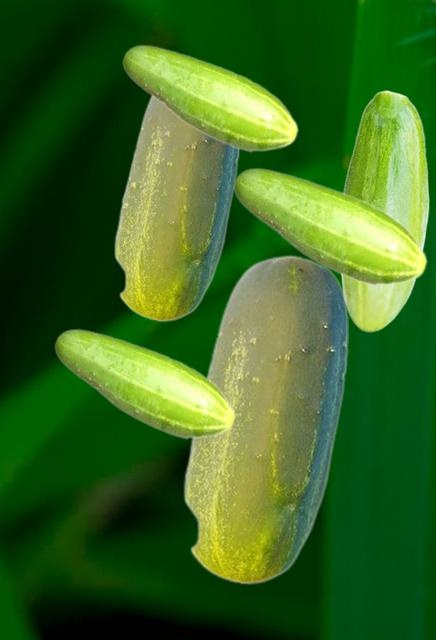cucumber: (182, 254, 347, 584), (113, 96, 239, 321), (233, 167, 427, 286), (339, 90, 428, 331), (54, 328, 235, 439), (122, 44, 298, 152)
